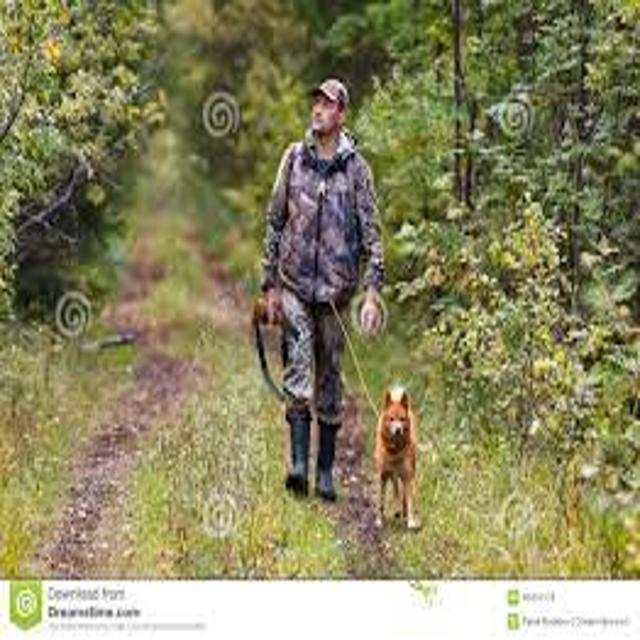dog: (350, 362, 432, 545)
poacher: (229, 60, 400, 525)
